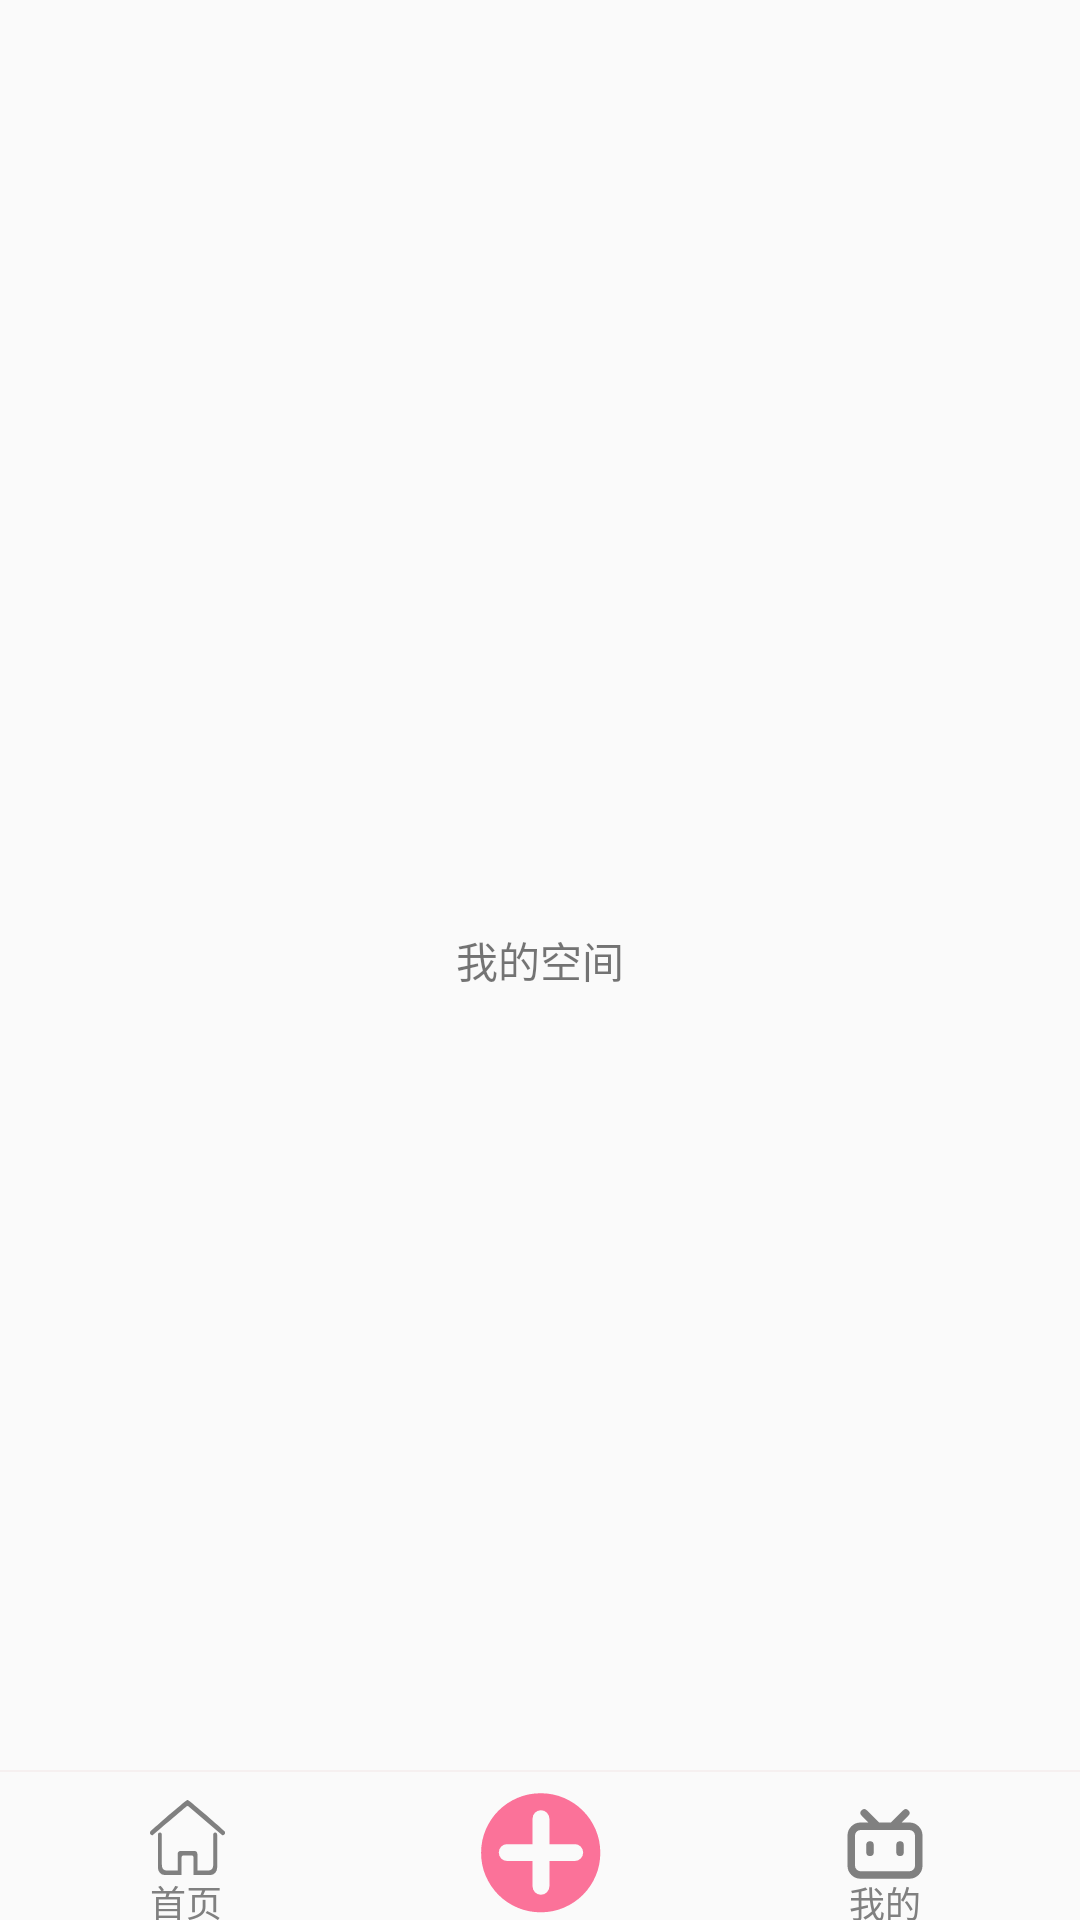

Where icons sit on this 1080px x 1920px app screen, as (x1, y1, x2, y2):
jia: (481, 1793, 601, 1913)
